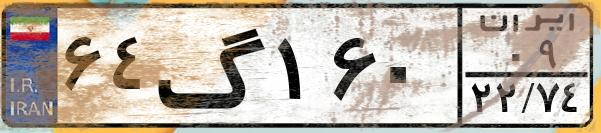0: (385, 28, 445, 110), (508, 27, 537, 80)
1: (270, 28, 330, 110)
2: (470, 70, 495, 125), (495, 70, 520, 125)
4: (110, 28, 156, 98), (560, 70, 590, 125)
6: (330, 28, 385, 110), (57, 26, 110, 100)
7: (535, 70, 560, 125)
9: (537, 27, 568, 80)
گ: (156, 12, 270, 120)
